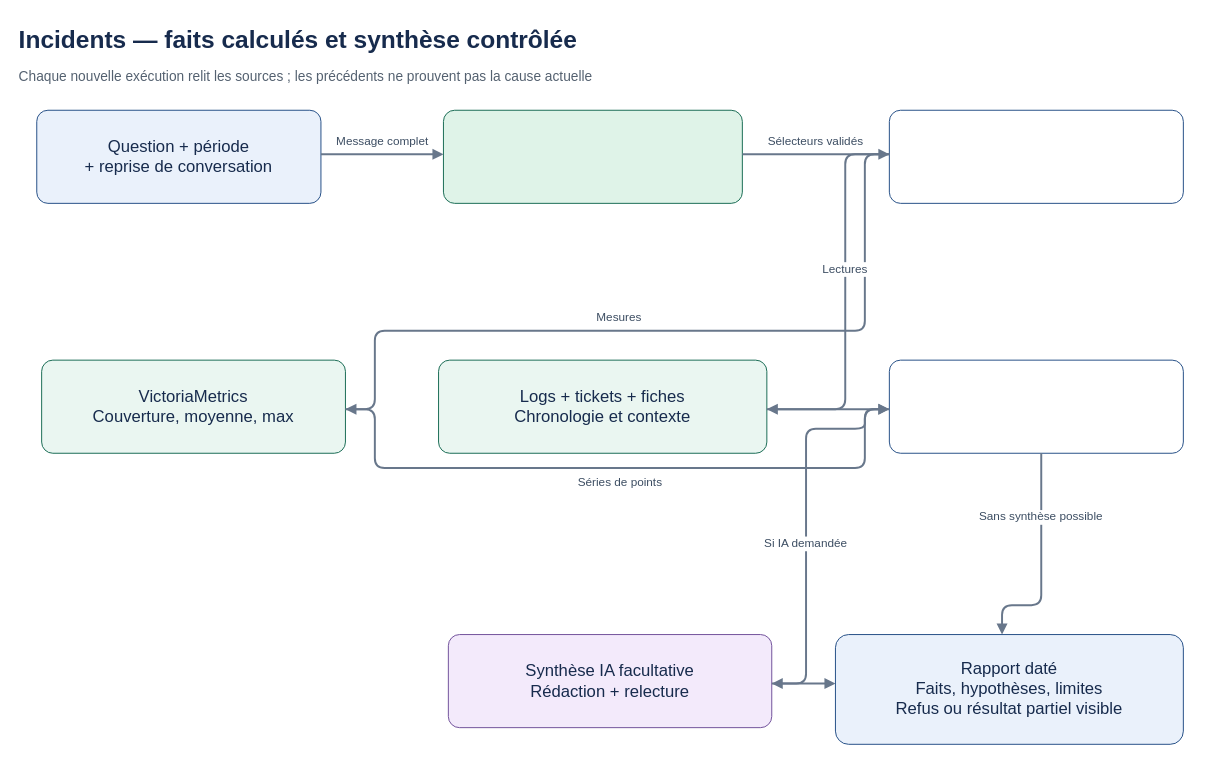
Image size: 1219x761. Some labels were removed from this diagram. Here are the shapes that lost their labels. From the top down, the box of each, then its label:
(442, 109, 742, 203): Identité et périmètre Équipements autorisés
(888, 109, 1183, 203): Lecteurs bornés Délais et erreurs explicites
(888, 359, 1183, 453): Python calcule les faits Sources et citations
